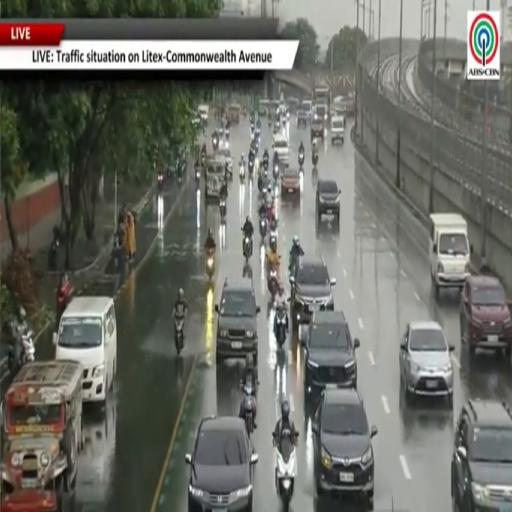car: (312, 389, 377, 509), (186, 416, 257, 511), (451, 399, 511, 511), (301, 311, 359, 392), (399, 320, 454, 401), (460, 275, 511, 356), (215, 279, 260, 364), (290, 256, 336, 328), (316, 180, 340, 222), (204, 155, 225, 200), (281, 168, 300, 198), (216, 147, 233, 179), (273, 134, 289, 165), (331, 116, 345, 145), (310, 120, 324, 141), (313, 104, 328, 122), (297, 108, 308, 129), (301, 101, 312, 120), (287, 98, 299, 114)
jeepney: (0, 361, 83, 511), (205, 156, 226, 200), (228, 104, 241, 123), (258, 100, 269, 117)
motorcycle: (273, 432, 297, 511), (8, 324, 34, 376), (241, 379, 255, 437), (274, 308, 287, 347), (175, 316, 184, 355), (268, 267, 278, 300), (206, 252, 214, 281), (243, 236, 252, 261), (289, 254, 299, 276), (157, 172, 164, 193), (259, 217, 266, 237), (220, 198, 226, 221), (269, 231, 276, 250), (298, 152, 305, 168), (273, 164, 279, 181), (212, 137, 219, 151), (312, 152, 318, 168), (258, 175, 263, 193), (240, 166, 245, 183), (195, 168, 200, 185), (249, 162, 254, 178), (249, 165, 254, 181), (200, 152, 205, 166), (263, 156, 268, 170), (250, 123, 254, 138), (219, 127, 224, 138), (225, 128, 229, 141), (268, 118, 272, 129), (286, 111, 290, 121)
